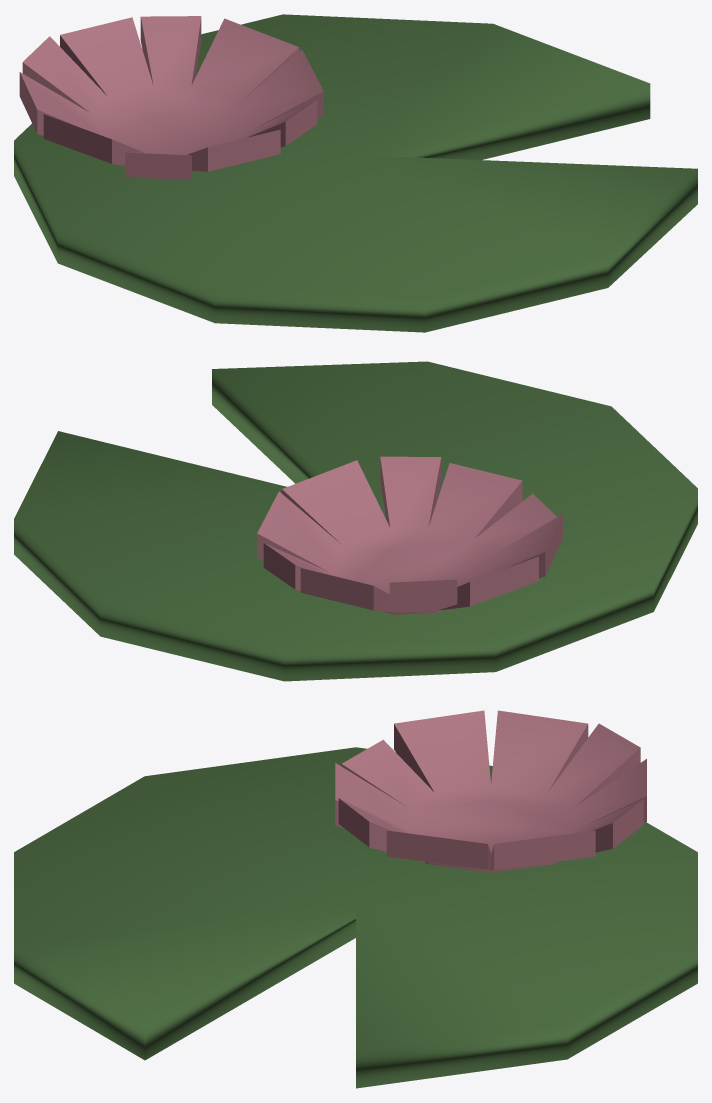
The model's file is lillypad.fbx.
3 renders of one model, top to bottom at view 1: azimuth 30°, elevation 25°; view 2: azimuth 150°, elevation 25°; view 3: azimuth 270°, elevation 25°, orthographic. The views are drawn at different scales.
Parts seen in each view (by area): view 1: pCylinder2, pCube167; view 2: pCylinder2, pCube167; view 3: pCylinder2, pCube167.
Boxes of the visible parts, box(x1,y1,x2,y2) form: pCylinder2: box(14, 14, 697, 332); pCube167: box(19, 16, 323, 180); pCylinder2: box(14, 361, 697, 681); pCube167: box(257, 456, 562, 614); pCylinder2: box(14, 747, 697, 1088); pCube167: box(335, 710, 646, 872).
Bounding box in the file's own units: 2 × 0.3139 × 1.9.
